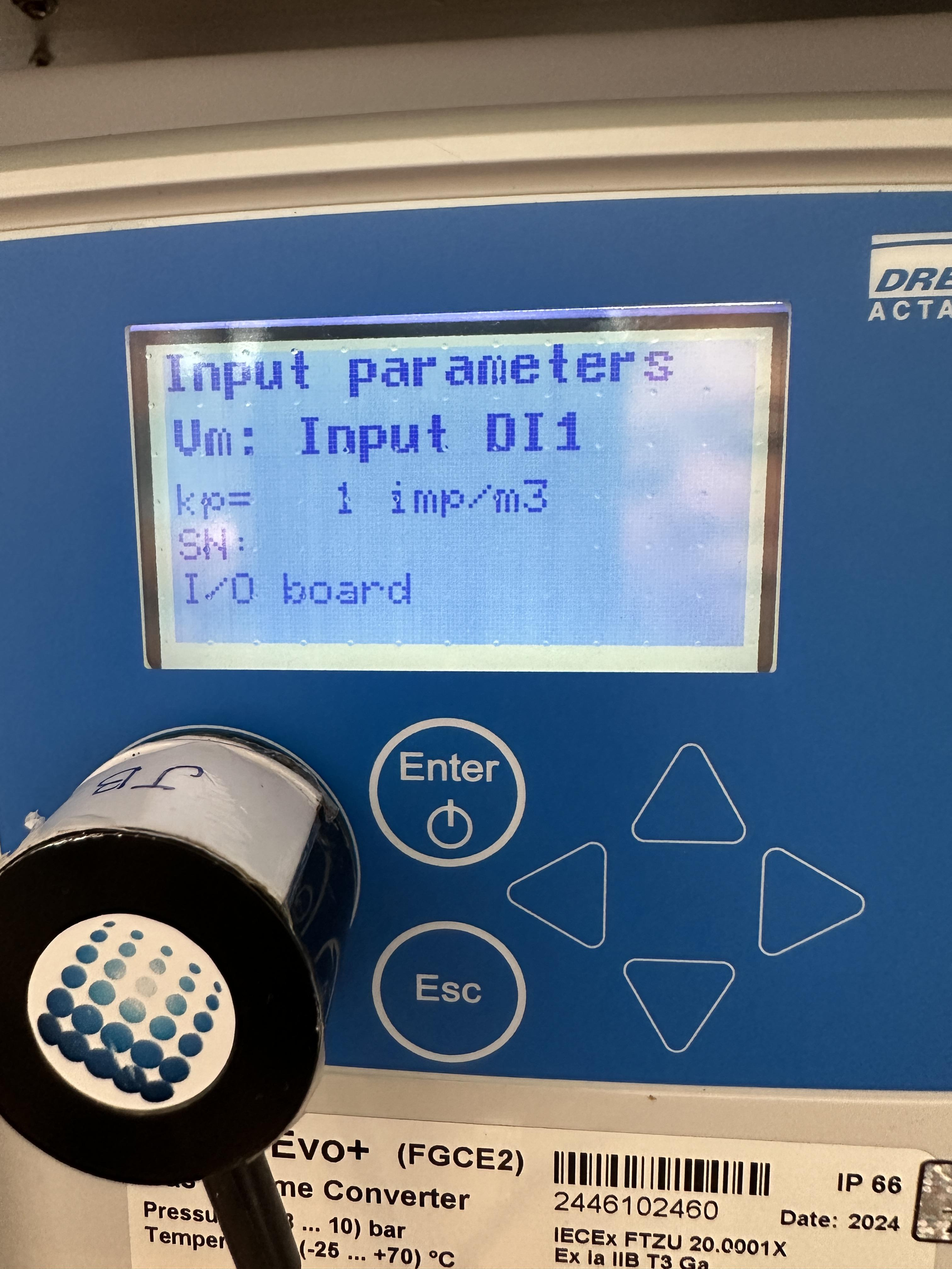digital_screen: (147, 327, 783, 690)
